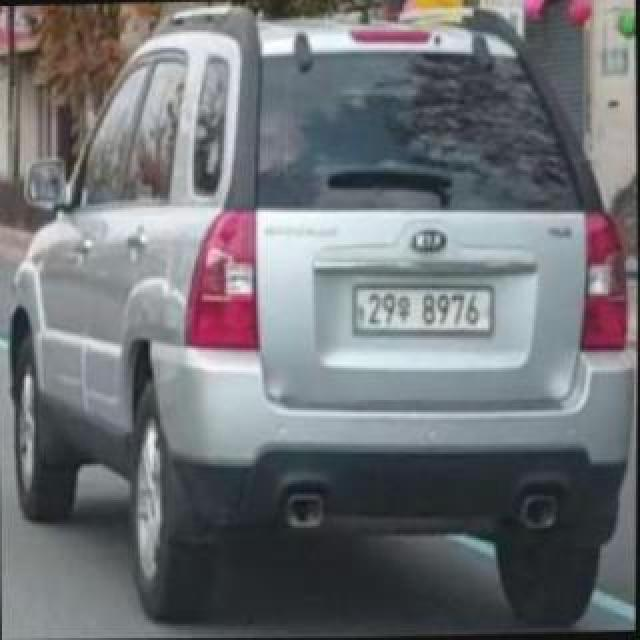car: (1, 5, 640, 628)
illegal_plate: (354, 283, 496, 341)
